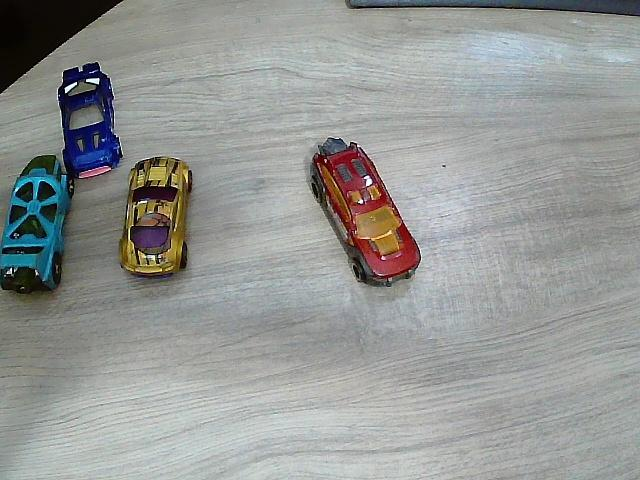Carro: (312, 138, 420, 287), (0, 153, 70, 295), (119, 157, 192, 278), (58, 64, 124, 184)
